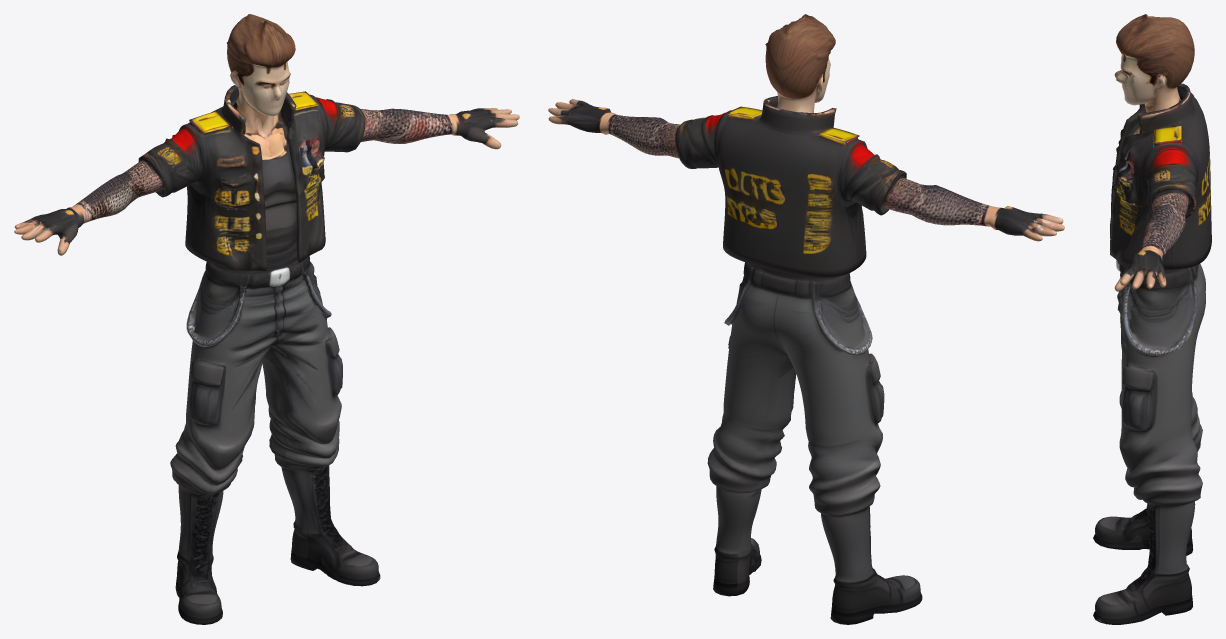
File: base_basic_pbr.fbx
3 renders of one model, left to right at view 1: azimuth 30°, elevation 25°; view 2: azimuth 150°, elevation 25°; view 3: azimuth 270°, elevation 25°, orthographic. The views are drawn at different scales.
Visible parts, largest first — view 1: model; view 2: model; view 3: model.
Boxes of the visible parts, bbox=[...] form: model: bbox=[14, 14, 519, 624]; model: bbox=[548, 14, 1064, 624]; model: bbox=[1093, 14, 1211, 624].
Size of the model in its own units: 160 by 173 by 33.11.
1 material, 1 textured.
